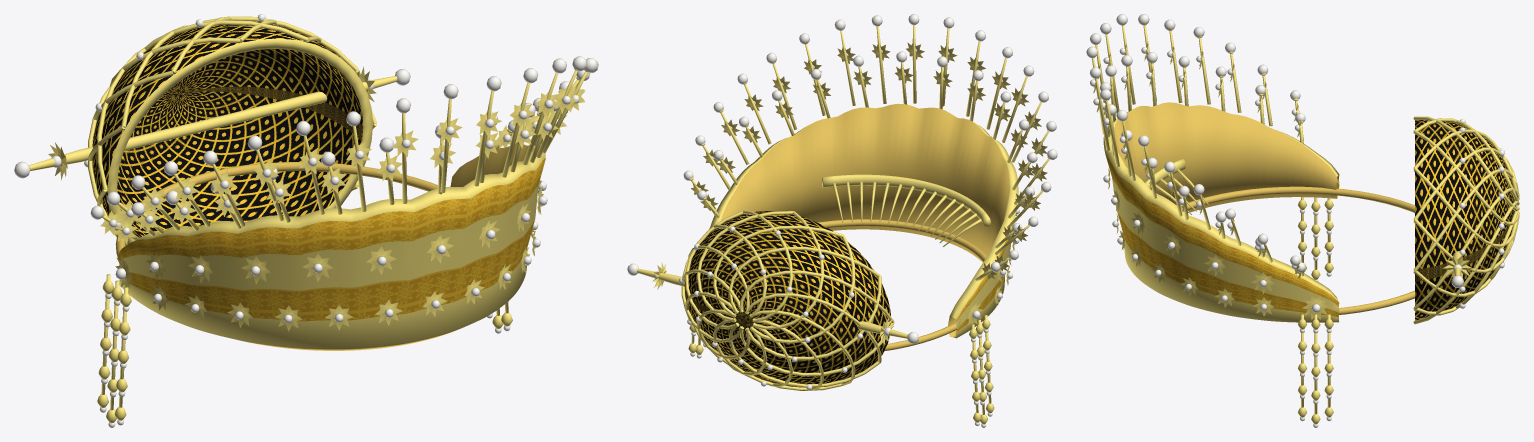
Rendered from 09_Sulawesi_Saloko_Poci.fbx.
3 renders of one model, left to right at view 1: azimuth 30°, elevation 25°; view 2: azimuth 150°, elevation 25°; view 3: azimuth 270°, elevation 25°, orthographic. The views are drawn at different scales.
Parts seen in each view (by area): view 1: Bugis_Saloko_Poci; view 2: Bugis_Saloko_Poci; view 3: Bugis_Saloko_Poci.
Boxes of the visible parts, box(x1,y1,x2,y2) form: Bugis_Saloko_Poci: box(14, 14, 598, 427); Bugis_Saloko_Poci: box(627, 14, 1057, 427); Bugis_Saloko_Poci: box(1086, 14, 1519, 427).
Bounding box in the file's own units: 154 × 128 × 162.
